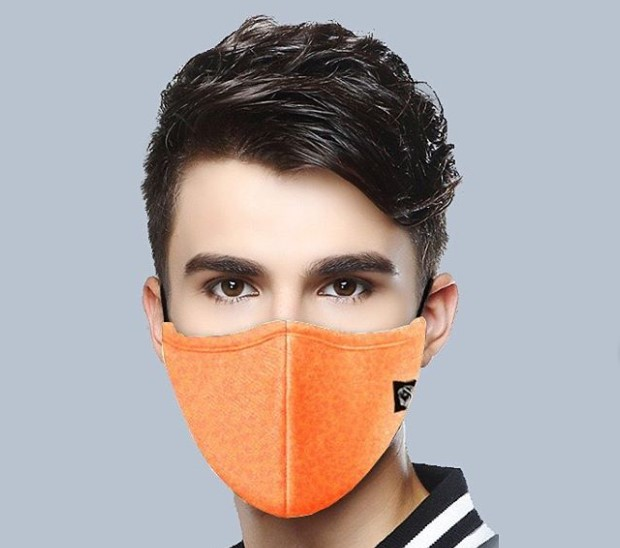face_with_mask: (140, 19, 459, 529)
